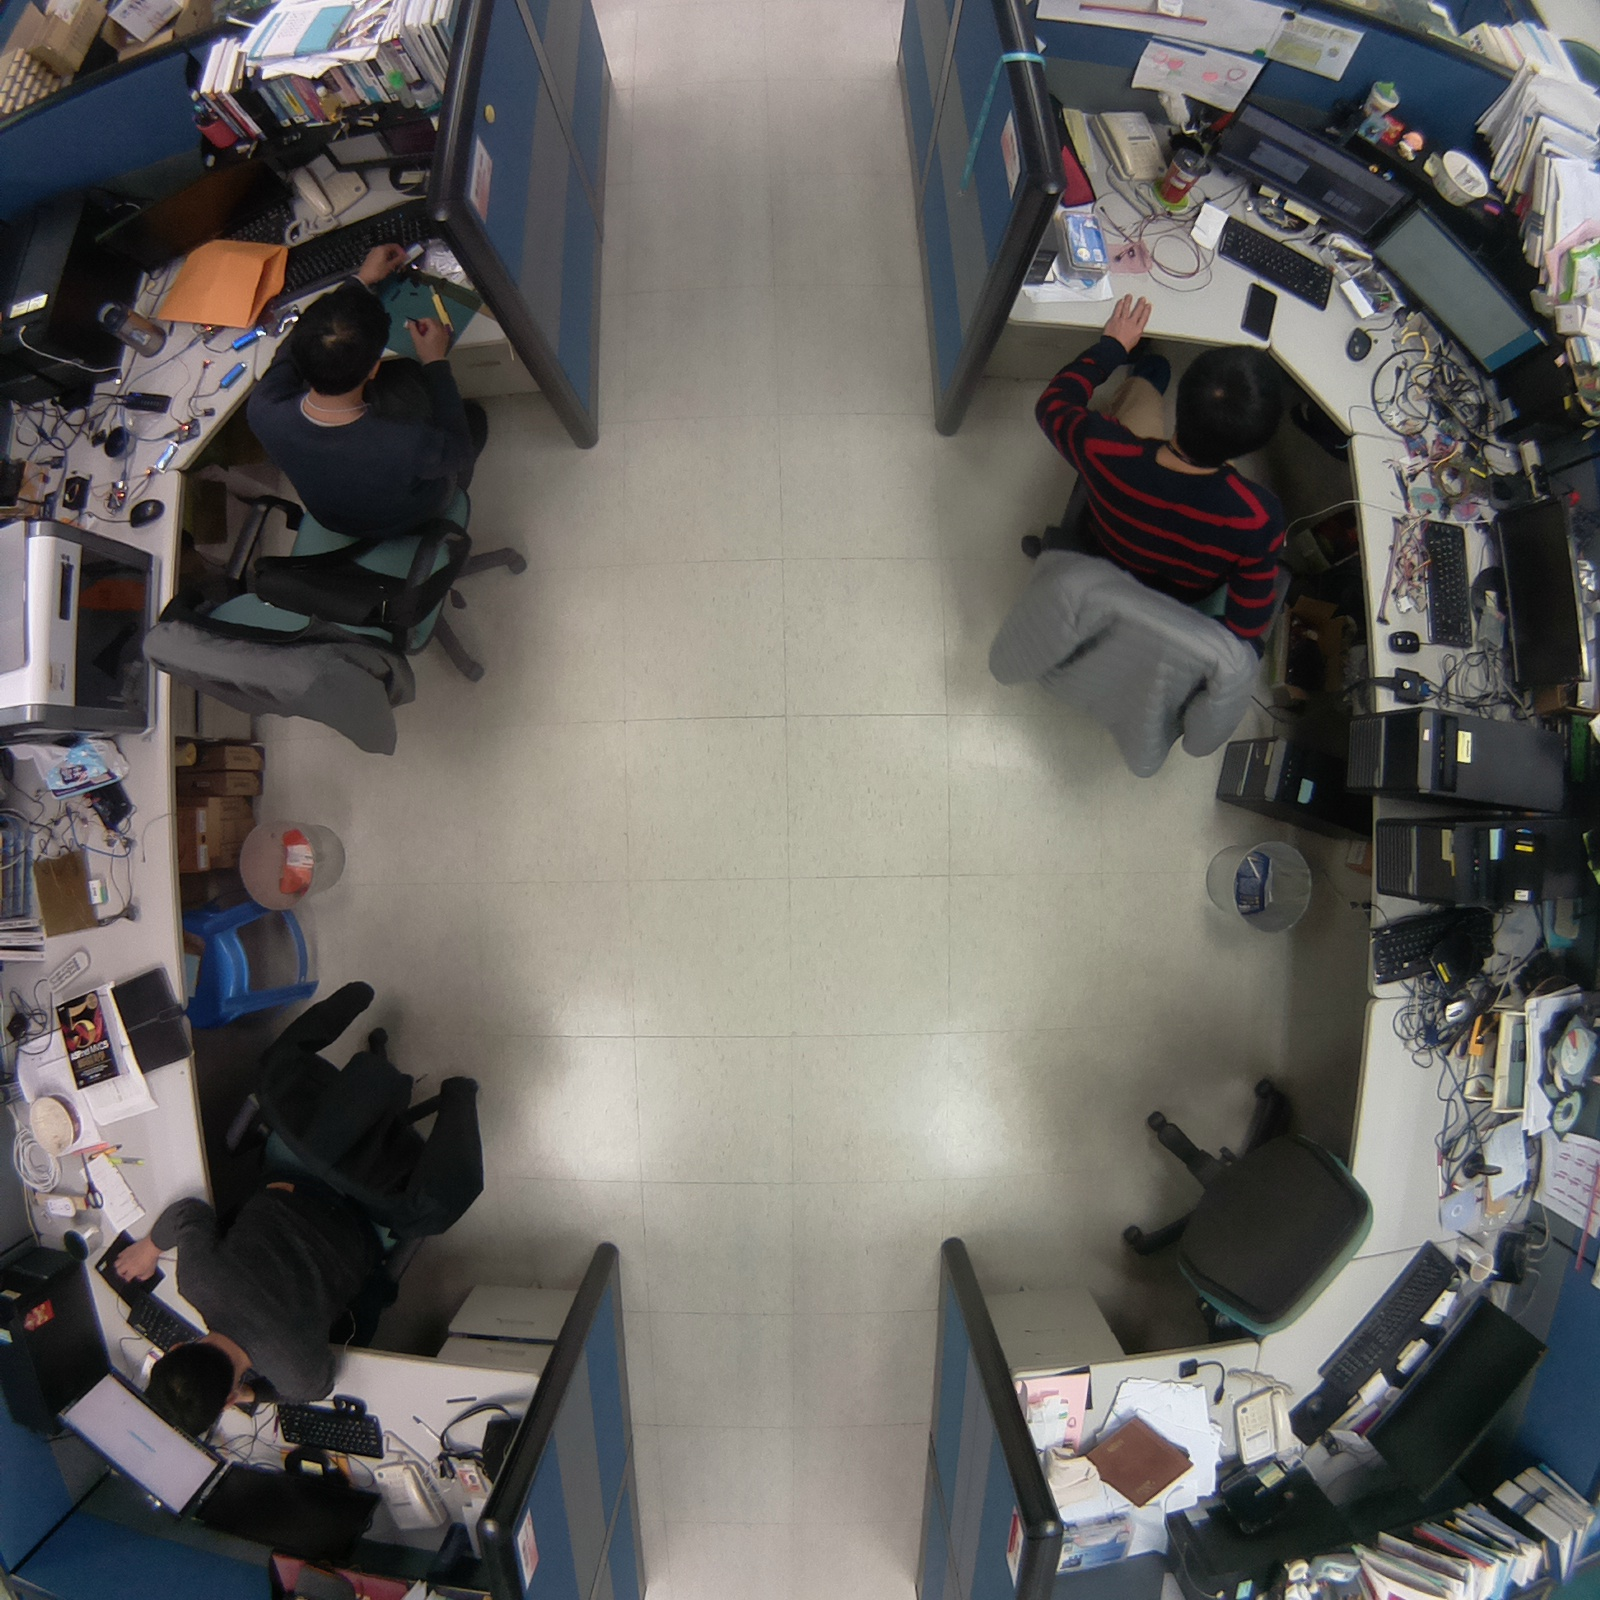chair: (1099, 1050, 1383, 1368)
head: (1168, 340, 1289, 465), (289, 278, 391, 391), (140, 1344, 242, 1442)
sitting: (132, 275, 542, 768), (93, 963, 506, 1441), (970, 294, 1309, 804)
